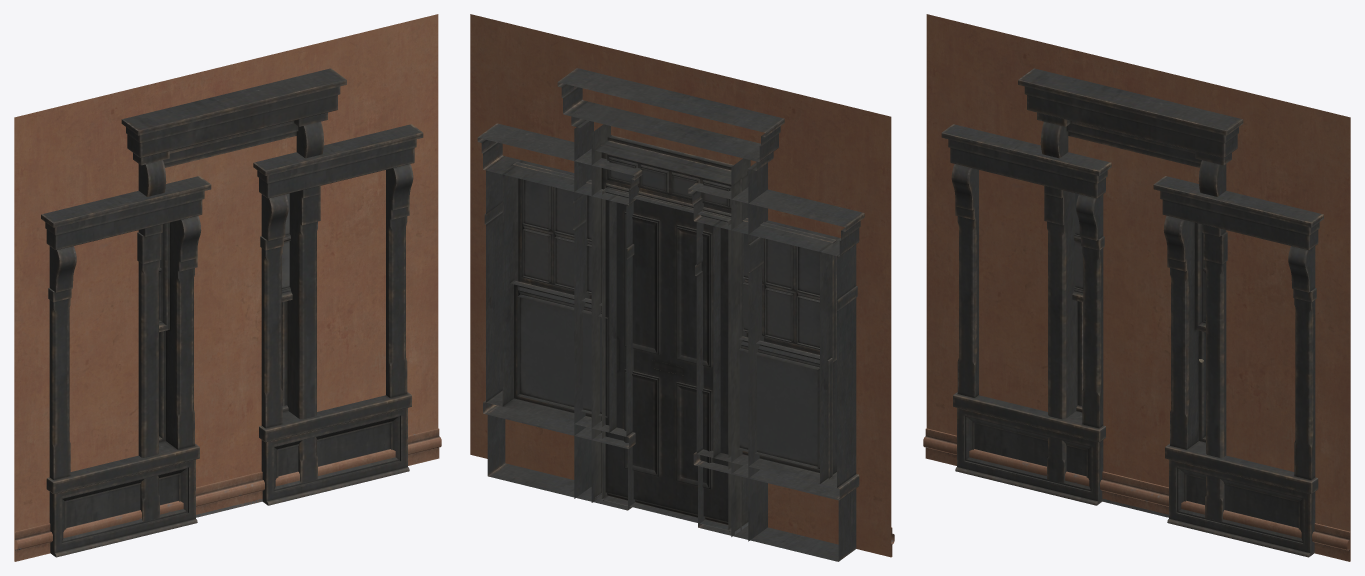
The model's file is facade.gltf.
3 renders of one model, left to right at view 1: azimuth 30°, elevation 25°; view 2: azimuth 150°, elevation 25°; view 3: azimuth 330°, elevation 25°, orthographic.
Visible parts, largest first — view 1: wall_window_centered_double_01, window_centered_double_01, wall_door_centered_small_01, door_centered_small_01, cornice_standard_standard_01; view 2: window_centered_double_01, door_centered_small_01, wall_window_centered_double_01, wall_door_centered_small_01; view 3: wall_window_centered_double_01, window_centered_double_01, wall_door_centered_small_01, door_centered_small_01, cornice_standard_standard_01.
Boxes of the visible parts, bbox=[...] form: wall_window_centered_double_01: bbox=[14, 14, 438, 561]; window_centered_double_01: bbox=[41, 124, 423, 557]; wall_door_centered_small_01: bbox=[32, 23, 420, 506]; door_centered_small_01: bbox=[121, 68, 346, 521]; cornice_standard_standard_01: bbox=[14, 428, 441, 561]; window_centered_double_01: bbox=[477, 123, 864, 561]; door_centered_small_01: bbox=[557, 68, 784, 541]; wall_window_centered_double_01: bbox=[470, 14, 891, 557]; wall_door_centered_small_01: bbox=[503, 24, 873, 544]; wall_window_centered_double_01: bbox=[926, 14, 1350, 561]; window_centered_double_01: bbox=[941, 124, 1323, 557]; wall_door_centered_small_01: bbox=[944, 23, 1332, 508]; door_centered_small_01: bbox=[1018, 68, 1243, 521]; cornice_standard_standard_01: bbox=[923, 428, 1350, 561].
Bounding box in the file's own units: 3 × 3 × 0.44.
Materials: 4 (4 with a texture image).
